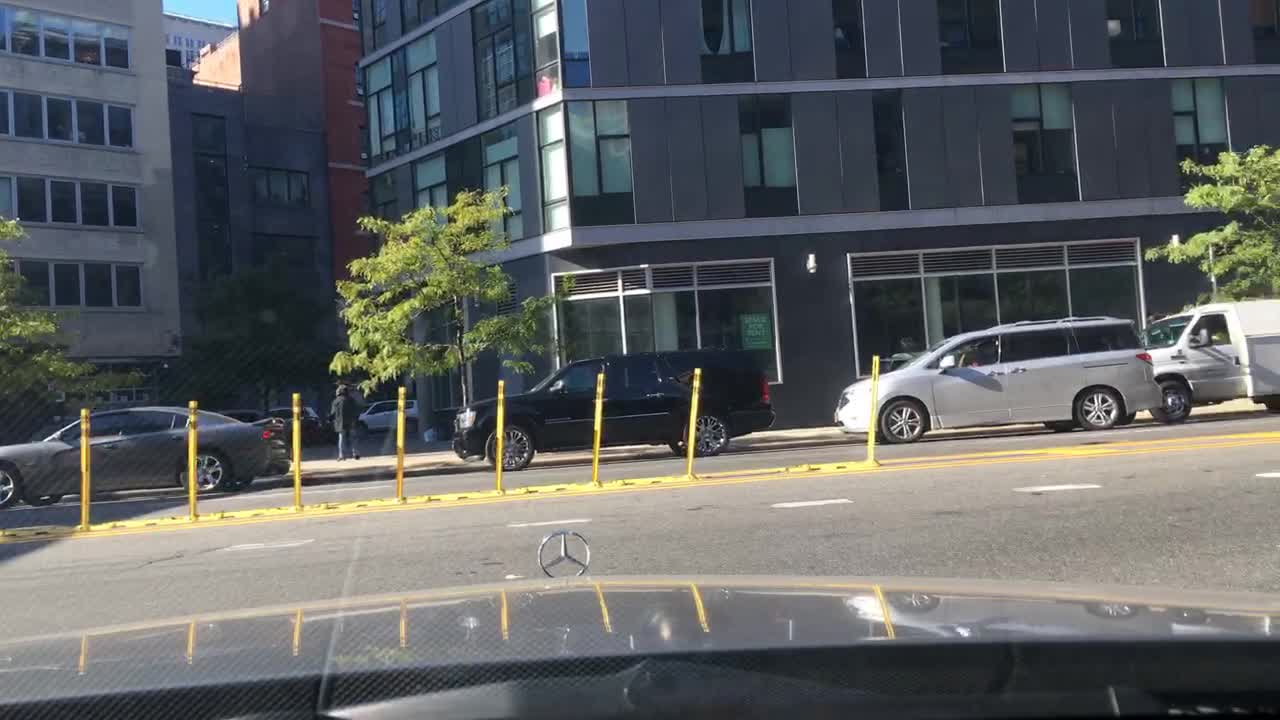car: (448, 342, 776, 473), (829, 313, 1162, 439), (0, 407, 266, 509), (17, 407, 288, 504), (358, 397, 420, 437), (263, 405, 318, 445)
person: (325, 384, 365, 461)
truck: (1140, 299, 1279, 424)
